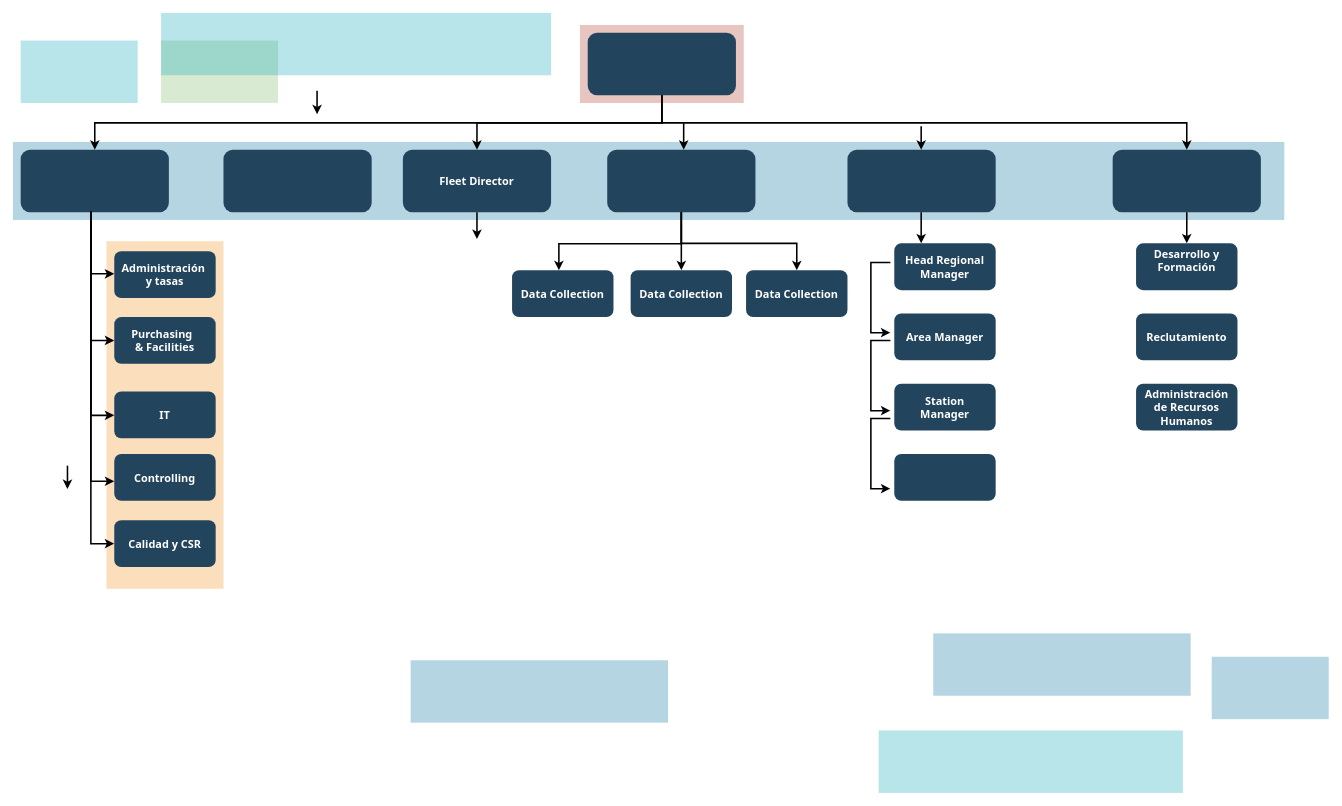
Some shapes in this 1342 by 806 pixel diagram are drawn without their labels. Here are the shapes that lost their labels. From the top down, the centre of each, then its label:
(661,63): Comité de dirección
(94,180): Director de Finanzas
(297,180): RCM Director
(681,180): Director Comercial
(921,180): Director de Operaciones
(1186,180): Director de Recursos Humanos
(944,477): Team Leader
